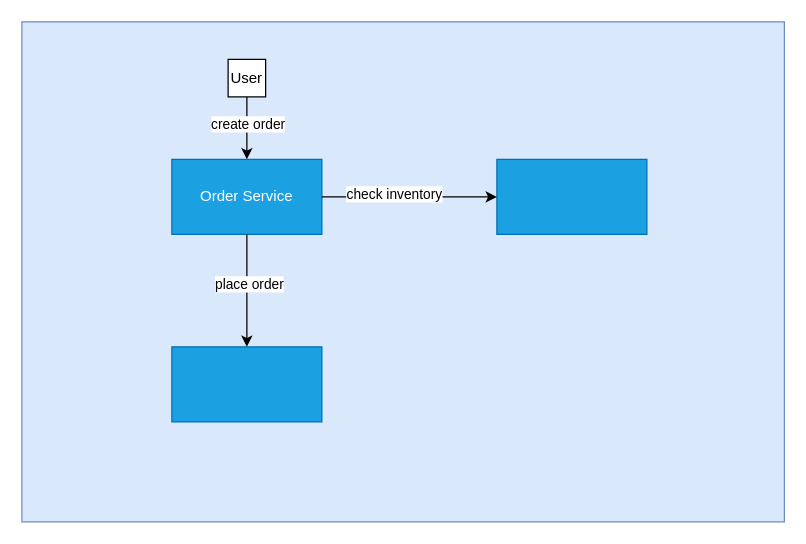
Some shapes in this 806 by 544 pixel diagram are drawn without their labels. The centre of each missing label's shape, as x and y in pixels:
Inventory Service: (x=571, y=196)
Order Queue: (x=246, y=384)
